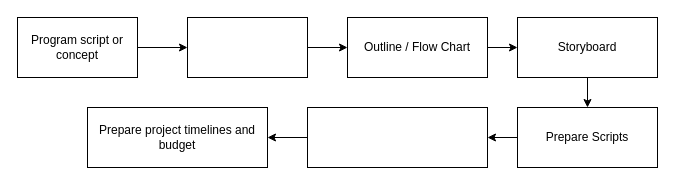
The diagram is 675 pixels wide and 185 high, and some of its shapes have lost their labels. The centre of each missing label's shape, as x and y in pixels:
Audio & Video Production planning: (x=397, y=137)
Program Goals: (x=247, y=47)
